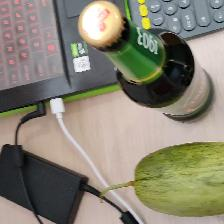gua: (124, 147, 224, 211)
